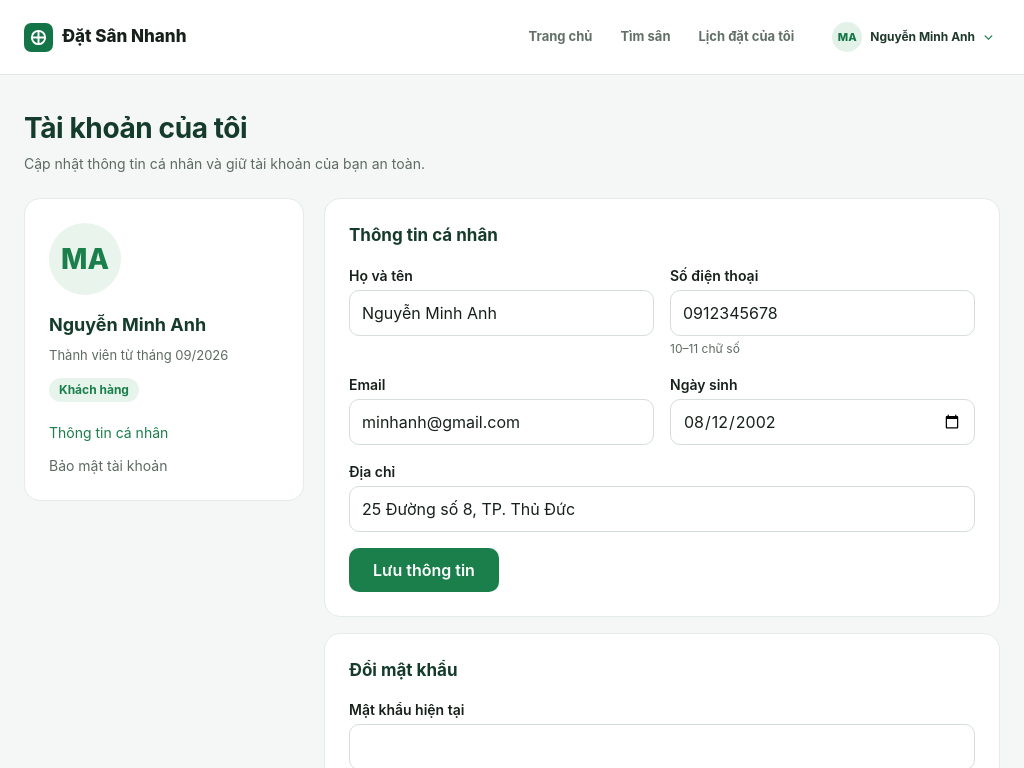
Test: AccountPage › sai mật khẩu hiện tại (400) thì hiện lỗi và giữ nguyên phiên đăng nhập
This screenshot has width=1024, height=768.
Type "saimatkhau" into the password field labelled "Mật khẩu hiện tại" at point(662, 747), box [350, 725, 974, 767]
(page scrolled)
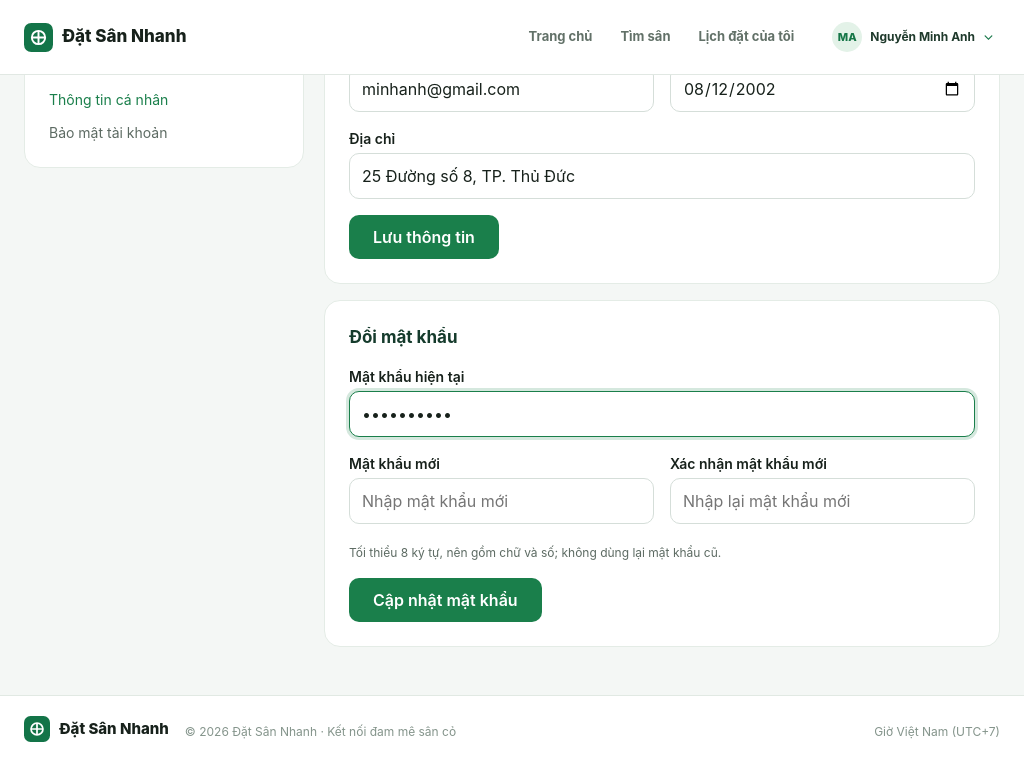
Type "matkhaumoi2" into the password field labelled "Mật khẩu mới" at point(502, 501), box [350, 479, 653, 523]
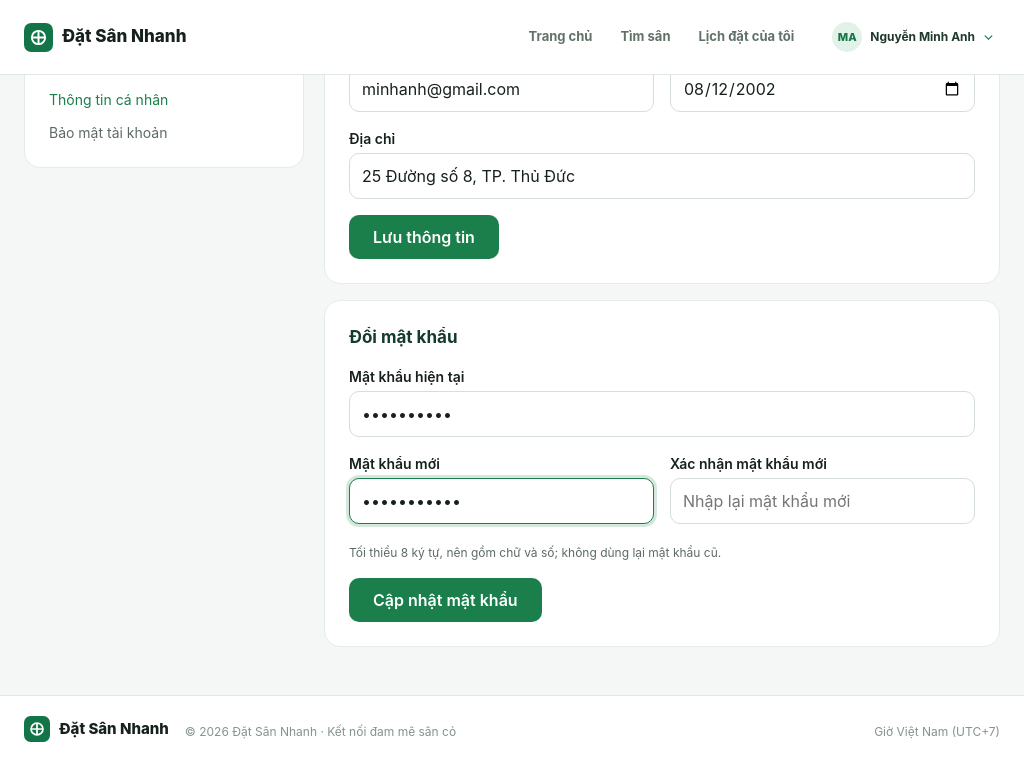
Type "matkhaumoi2" into the password field labelled "Xác nhận mật khẩu mới" at point(822, 501), box [671, 479, 974, 523]
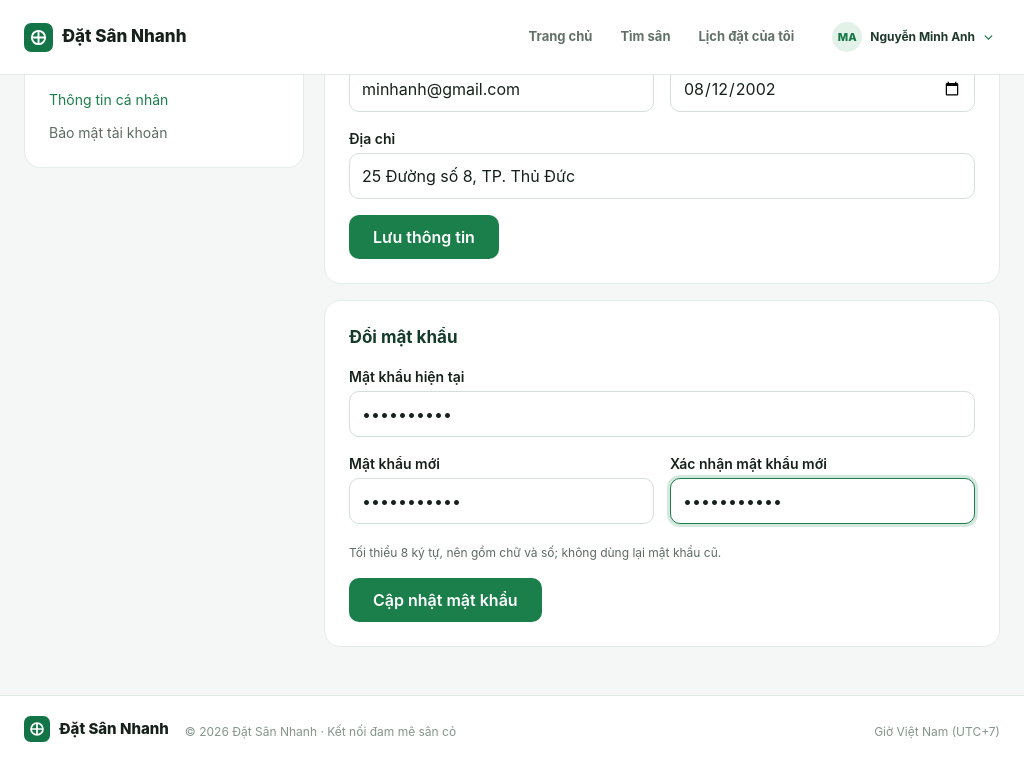
Click the button "Cập nhật mật khẩu" at point(445, 600), box [349, 578, 542, 622]
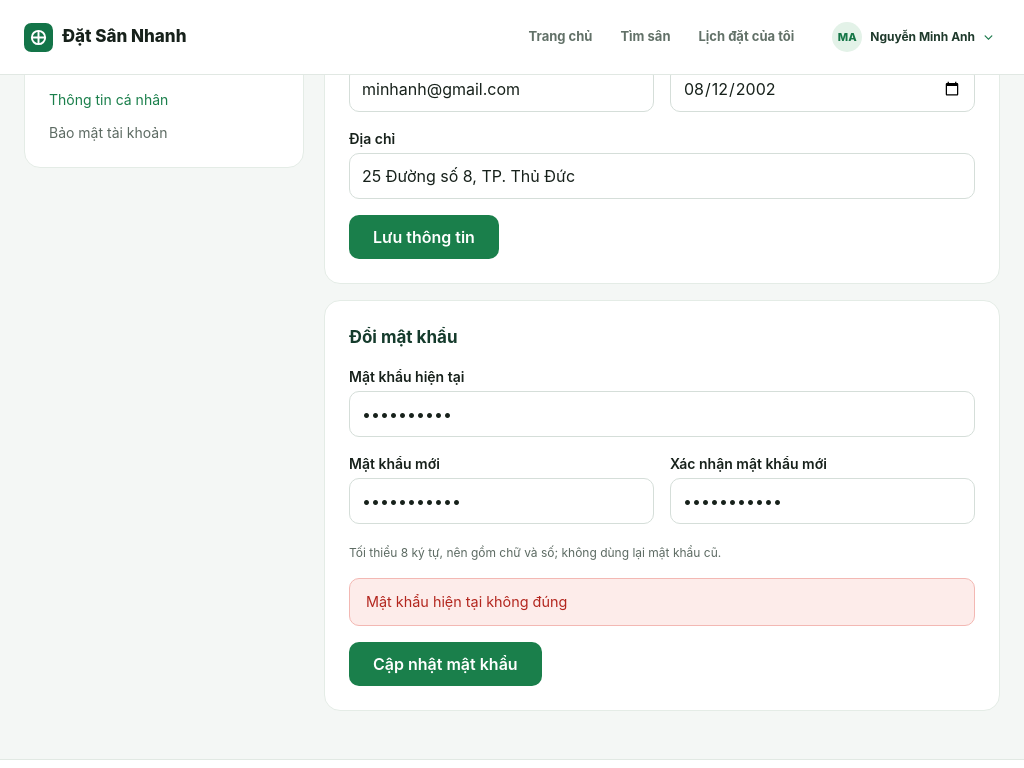
Expected: the text "Mật khẩu hiện tại không đúng" is shown, [349, 578, 975, 626]
